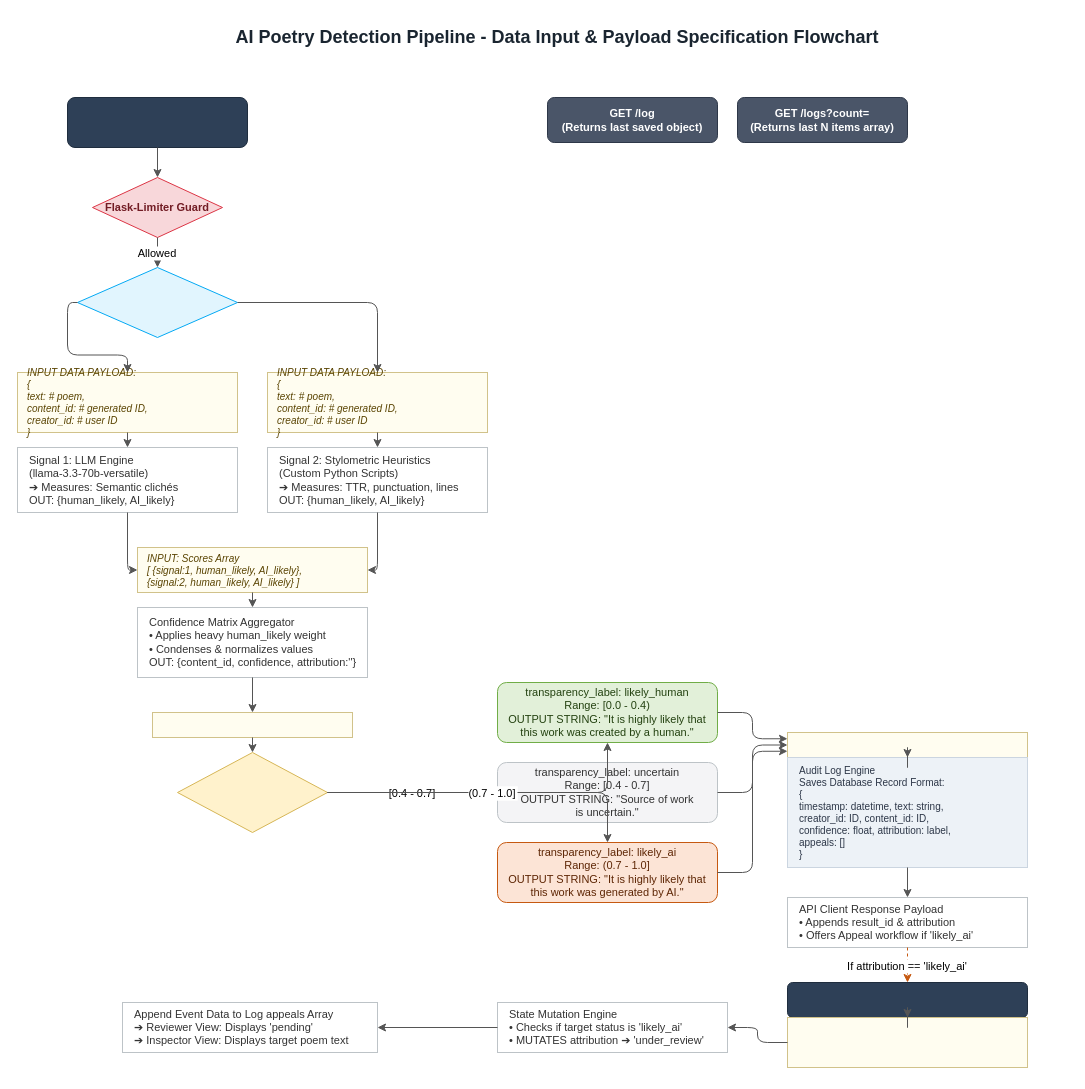
Some shapes in this 1085 by 1089 pixel diagram are drawn without their labels. The shapes that lost their labels are listed below. From the top down, each one's box as (x1, y1, x2, y2) in pixels, then its label:
(66, 96, 248, 148): POST /submit (Payload Validation)
(76, 266, 238, 338): Async Execution Pool Unpacks Base Payload
(152, 712, 352, 738): INPUT: Normalized confidence score
(786, 732, 1028, 758): INPUT STRUCTURE TO PERSIST
(176, 752, 328, 832): Score Scale Mapping (0.0 to 1.0)
(786, 982, 1028, 1018): POST /appeal
(786, 1016, 1028, 1068): INPUT SIGNATURE REQUIRED: { content_id: string, creator_reasoning: string }
